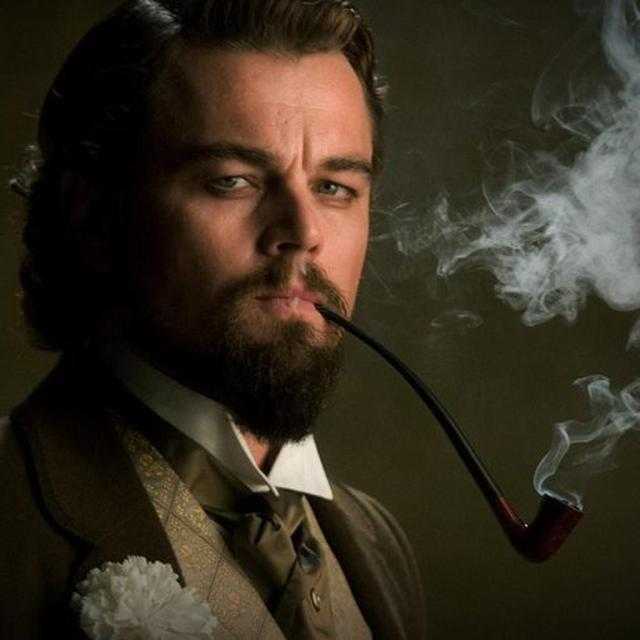smoking: (95, 9, 597, 562)
